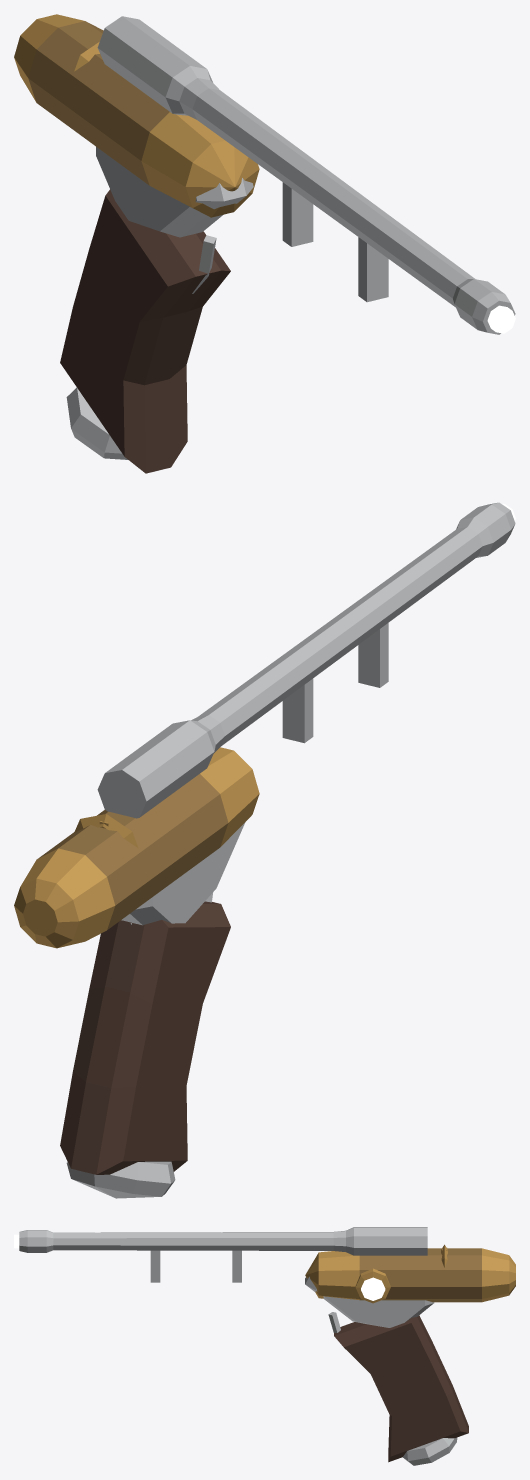
File: air_pistol.glb
3 views of the same model, one above another, from view 1: azimuth 30°, elevation 25°; view 2: azimuth 150°, elevation 25°; view 3: azimuth 270°, elevation 25° (orthographic). The views are drawn at different scales.
Parts seen in each view (by area): view 1: air_pistol; view 2: air_pistol; view 3: air_pistol.
Boxes of the visible parts, box(x1,y1,x2,y2) form: air_pistol: box(14, 14, 515, 473); air_pistol: box(14, 502, 515, 1198); air_pistol: box(14, 1227, 515, 1465).
Bounding box in the file's own units: 0.097 × 0.3778 × 0.738.
